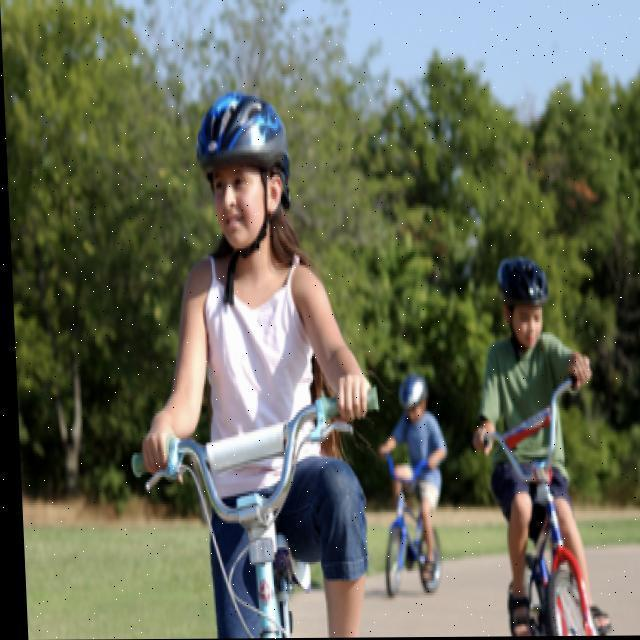Helmet: (184, 79, 302, 261), (489, 255, 553, 352), (384, 362, 430, 427)
